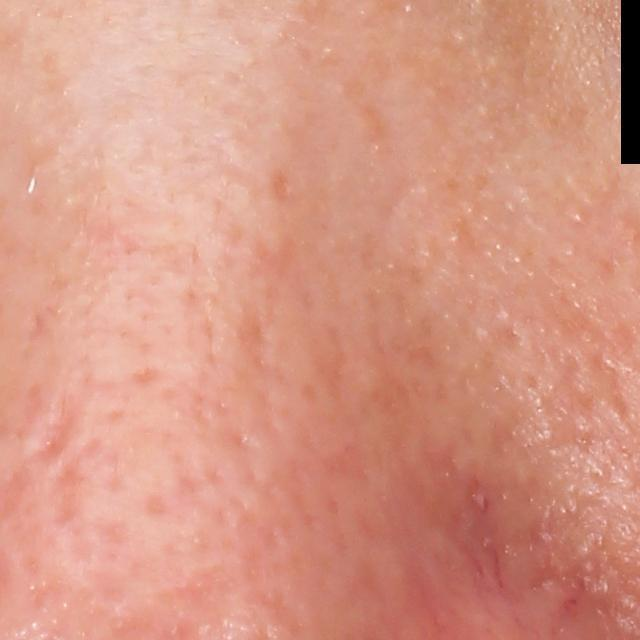atrophic_scar: (25, 384, 86, 473), (48, 440, 106, 533)
